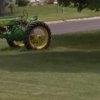Tractor: (4, 9, 57, 54)
